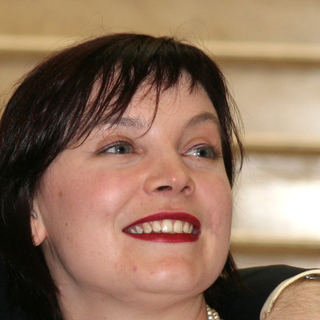eye: (176, 135, 221, 166), (91, 135, 141, 161)
